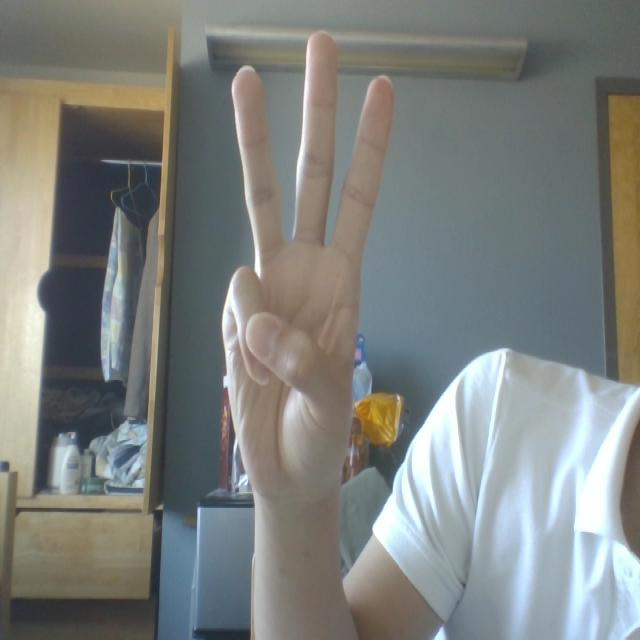W: (203, 19, 418, 498)
